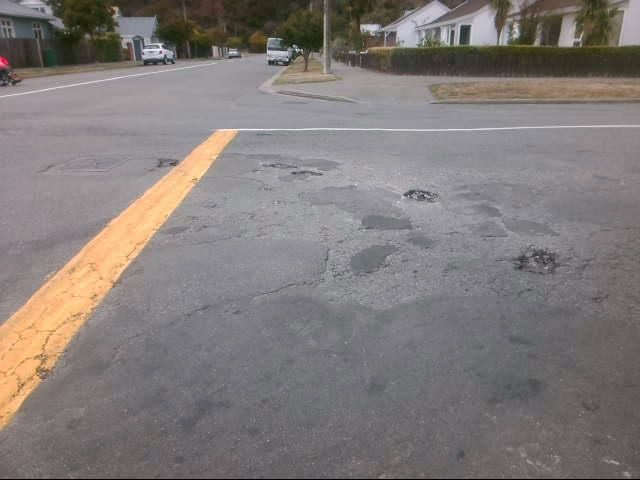pothole: (518, 248, 559, 274), (401, 188, 440, 206), (157, 154, 176, 167), (294, 169, 320, 178)
